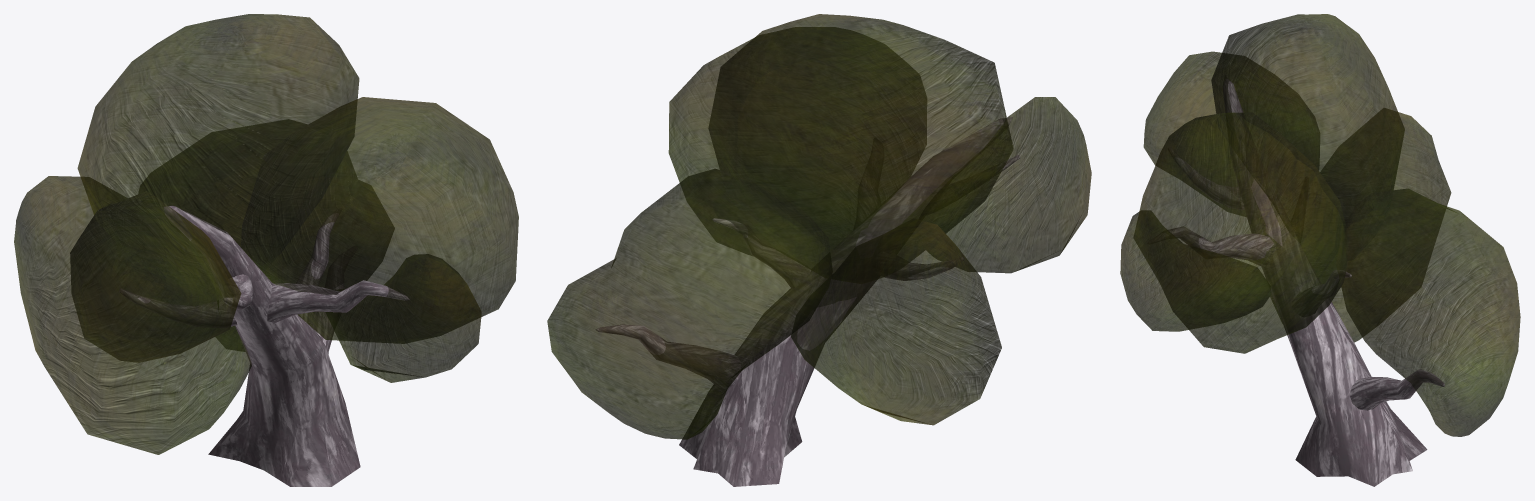
The model's file is Tree02-transformed.glb.
The picture shows the model from 3 angles, left to right: view 1: azimuth 30°, elevation 25°; view 2: azimuth 150°, elevation 25°; view 3: azimuth 270°, elevation 25°; orthographic projection. The views are drawn at different scales.
Parts seen in each view (by area): view 1: Tree02; view 2: Tree02; view 3: Tree02.
Boxes of the visible parts, x1,y1,x2,y2 form: Tree02: (14,14,518,486); Tree02: (547,14,1091,486); Tree02: (1120,14,1520,486).
Bounding box in the file's own units: 5.88 × 6.07 × 5.57.
Materials: 2 (2 with a texture image).
